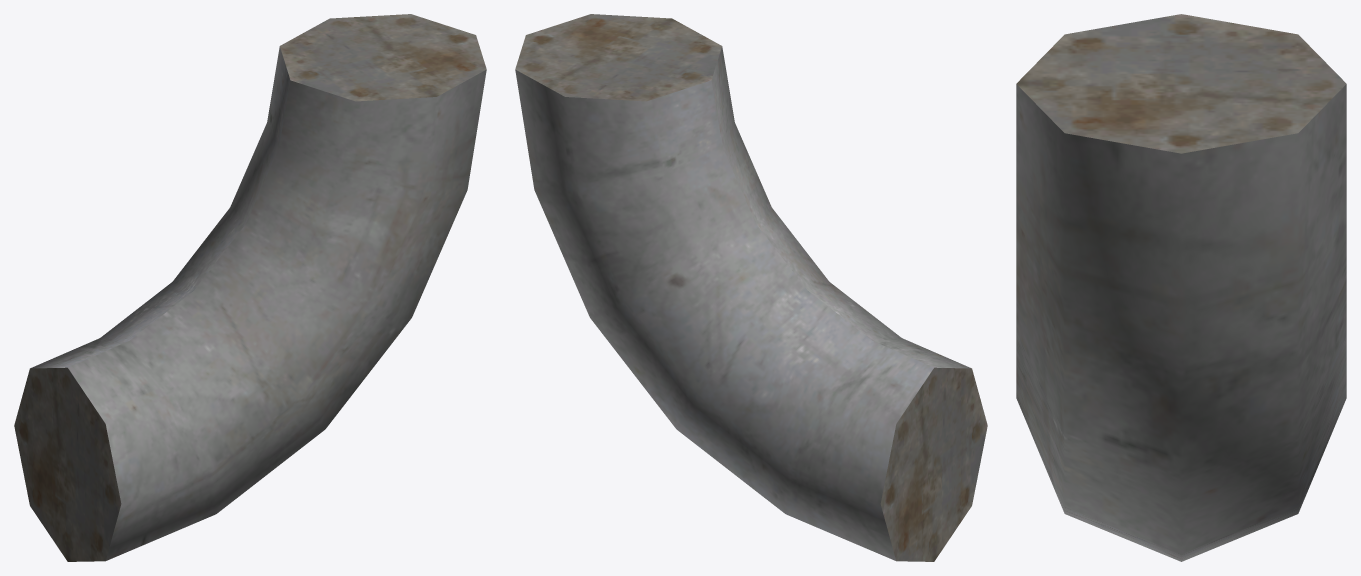
Rendered from p_glo_electrical_pipes_90deg_LOD0.obj.
3 renders of one model, left to right at view 1: azimuth 30°, elevation 25°; view 2: azimuth 150°, elevation 25°; view 3: azimuth 270°, elevation 25°, orthographic. The views are drawn at different scales.
Visible parts, largest first — view 1: mtl_p_rus_pipes_modular; view 2: mtl_p_rus_pipes_modular; view 3: mtl_p_rus_pipes_modular.
Boxes of the visible parts, <box> form: mtl_p_rus_pipes_modular: <box>14,14,486,561</box>; mtl_p_rus_pipes_modular: <box>515,14,987,561</box>; mtl_p_rus_pipes_modular: <box>1016,14,1346,561</box>.
Size of the model in its own units: 8.02 by 8.02 by 3.65.
